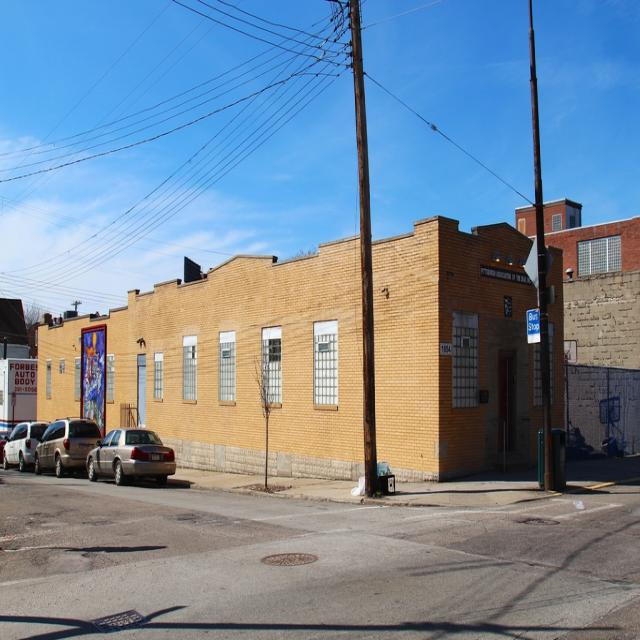car: (84, 427, 174, 485)
